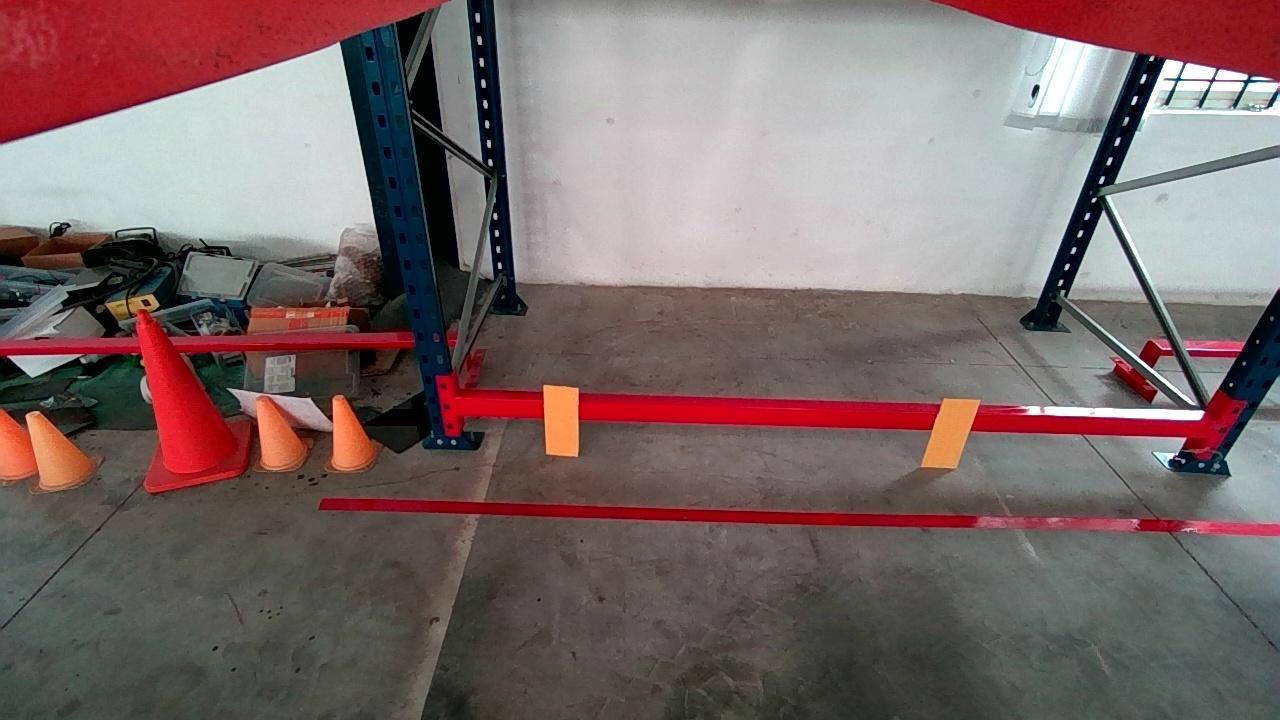h_rack: (455, 397, 1218, 440)
orange_strip: (924, 400, 980, 465), (542, 385, 579, 456)
red_line: (322, 497, 1280, 537)
